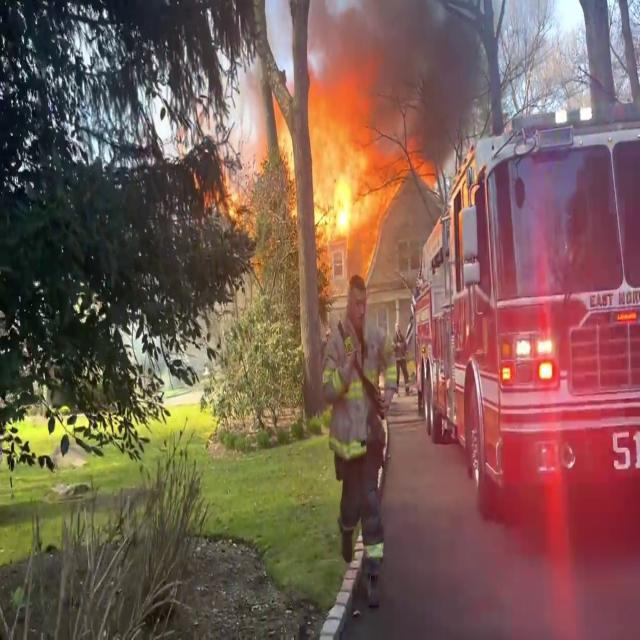Fire: (300, 71, 392, 252)
Smoke: (337, 0, 498, 163)
